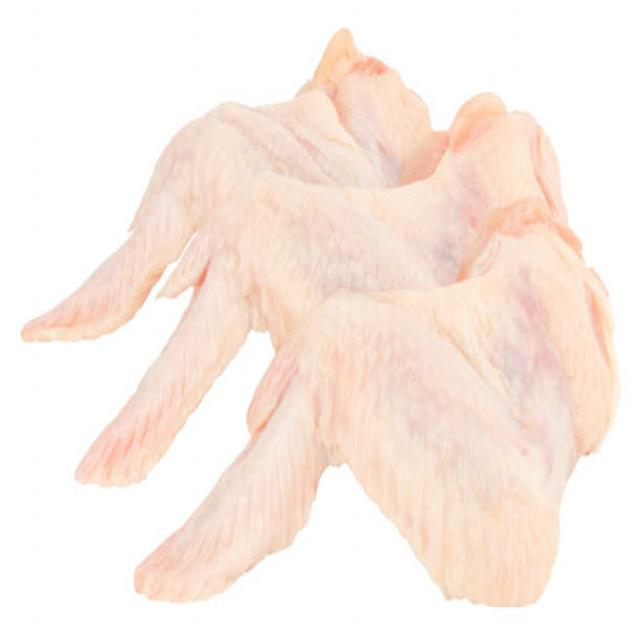Chicken Wing: (139, 254, 622, 640), (20, 38, 429, 336)
